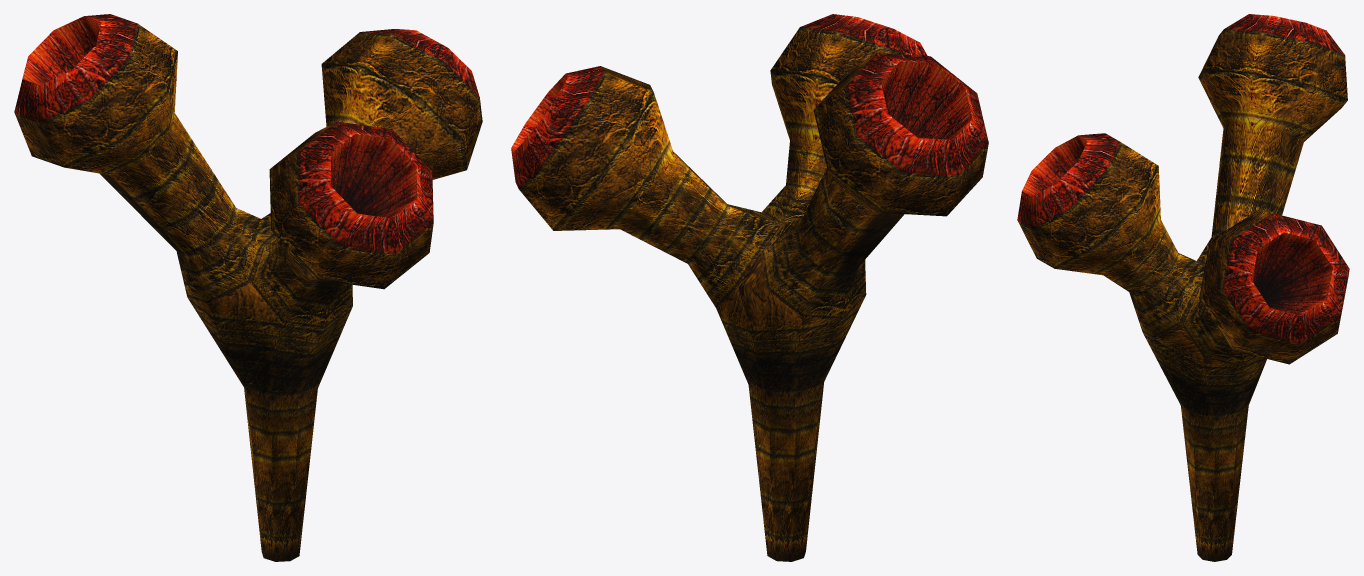
File: rclpod01.FBX
The picture shows the model from 3 angles, left to right: view 1: azimuth 30°, elevation 25°; view 2: azimuth 150°, elevation 25°; view 3: azimuth 270°, elevation 25°; orthographic projection. The views are drawn at different scales.
Visible parts, largest first — view 1: mainbody; view 2: mainbody; view 3: mainbody.
Boxes of the visible parts, <box> form: mainbody: <box>14,14,482,561</box>; mainbody: <box>511,14,988,561</box>; mainbody: <box>1017,14,1349,561</box>.
Size of the model in its own units: 6.63 by 4.9 by 7.76.
